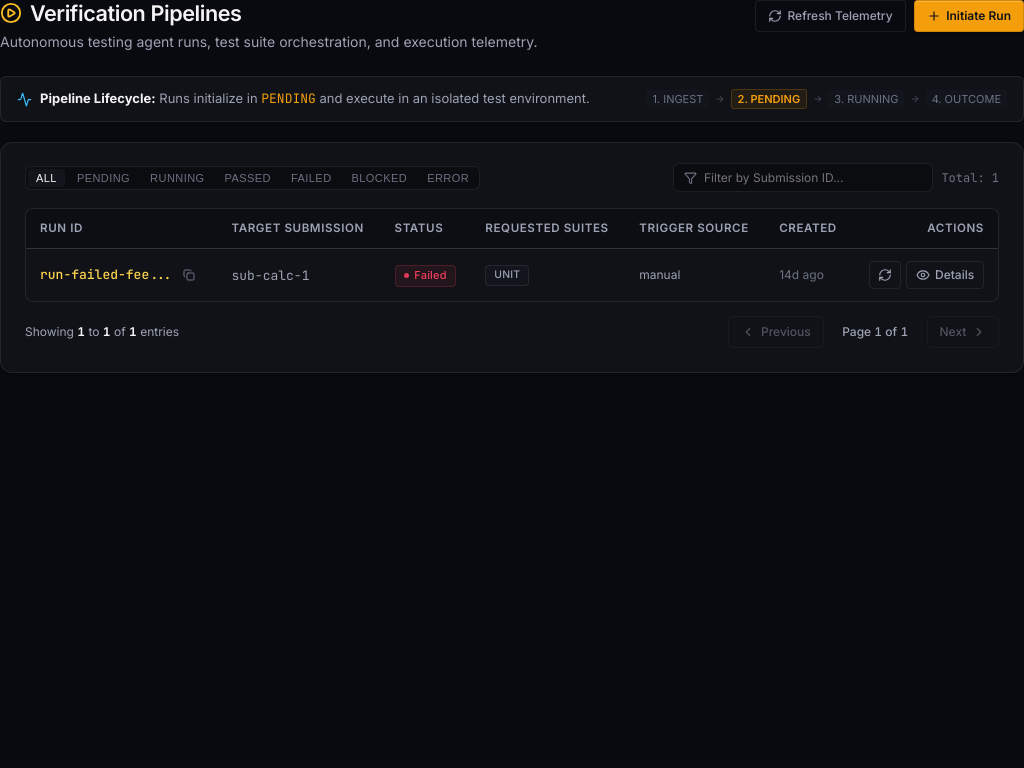
Scenario: Technical Feedback Preview UI › renders technical feedback preview for eligible failed verification run
Note: Wait for list to load and click Inspect Details
Click the button "Details": click(945, 275) 906,261 -> 984,289
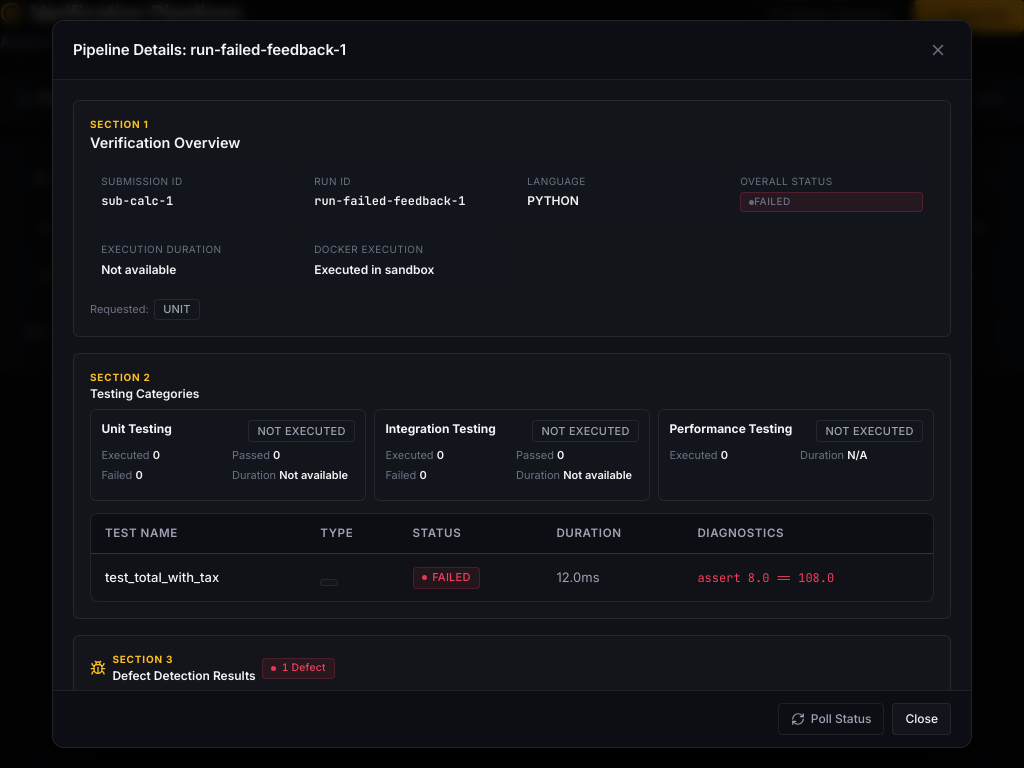
Check: the heading "Pipeline Details: run-failed-feedback-1" is shown, box 73,41 -> 346,59
